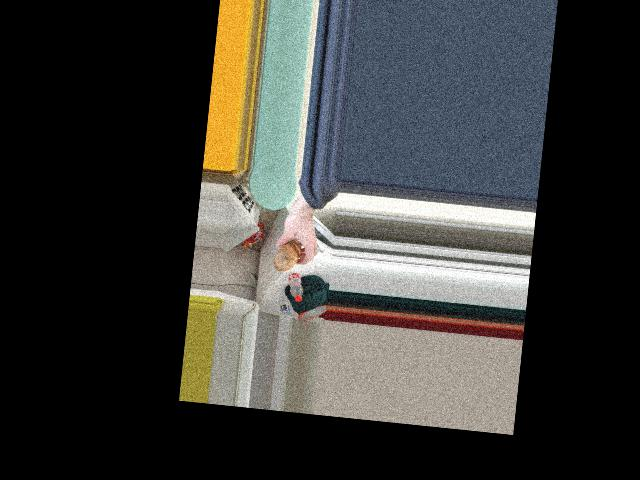sweet_potato: (272, 236, 304, 273)
